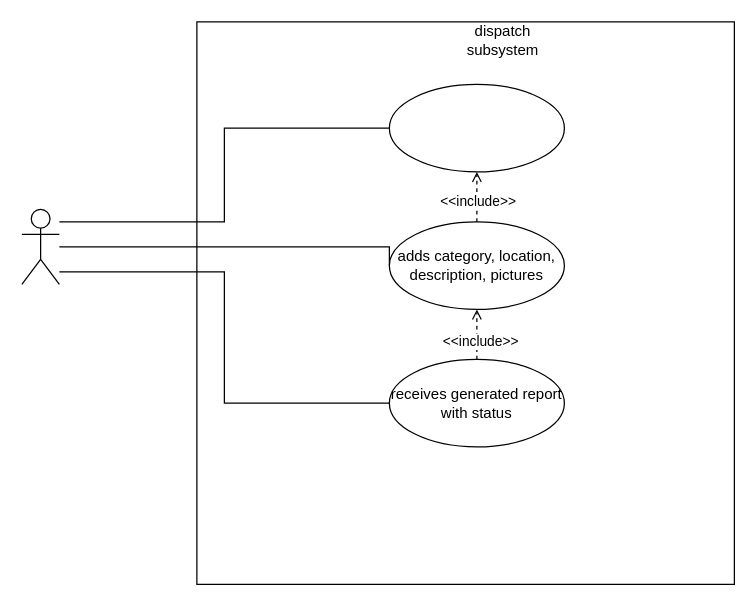
Image size: 756x606. Some labels were removed from this diagram. The centre of each missing label's shape, as x and y in pixels:
"adds report" goes at point (476, 127).
"User" goes at point (40, 246).
